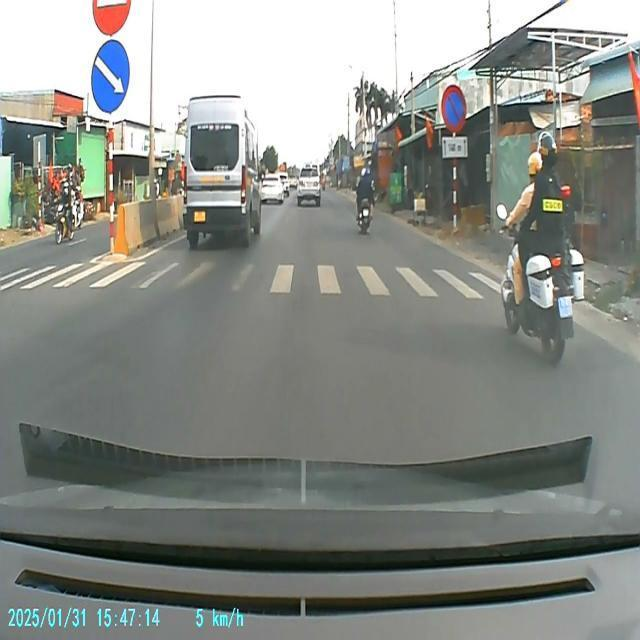102-cam-di-nguoc-chieu: (90, 0, 131, 35)
131a-cam-do-xe: (442, 82, 468, 134)
302a-huong-phai-di-vong-chuong-ngai-vat-1: (89, 38, 132, 116)
